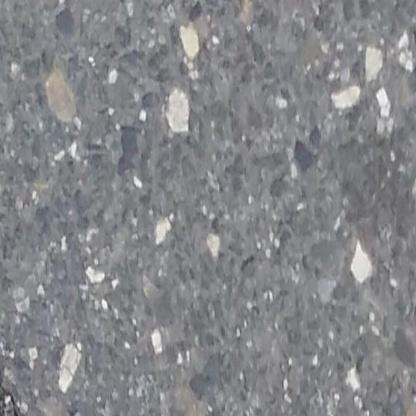Cracks: (0, 346, 29, 416)
